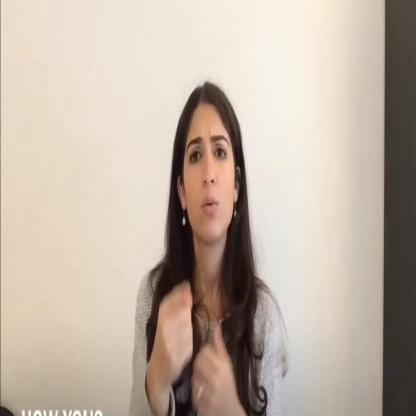HowAreYou: (152, 253, 228, 416)
